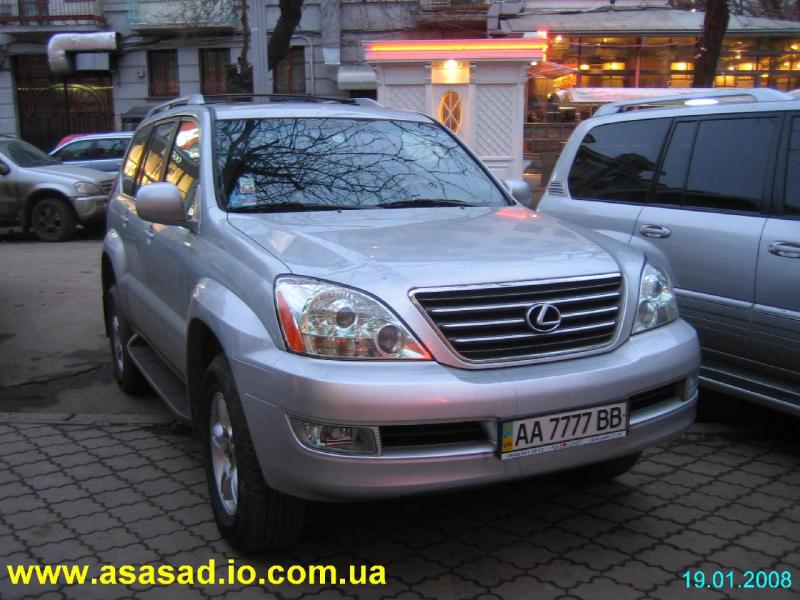car: (100, 94, 702, 547)
plate: (497, 402, 628, 460)
